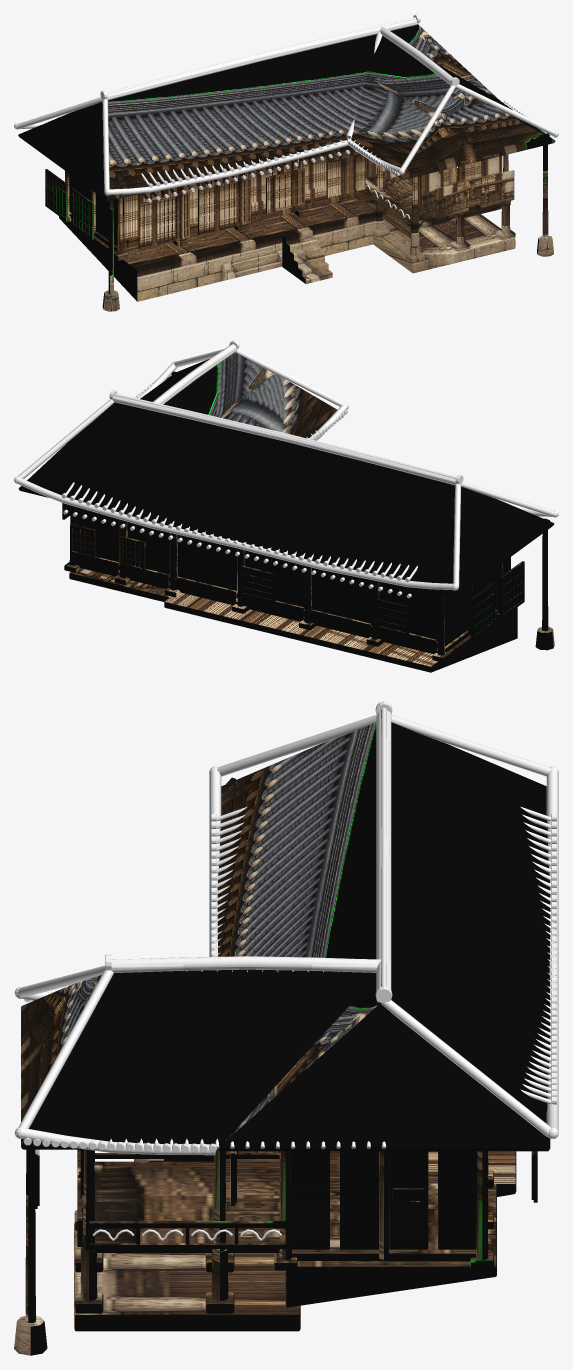
Rendered from ildu_sarangchae_final_v03.glb.
3 renders of one model, top to bottom at view 1: azimuth 30°, elevation 25°; view 2: azimuth 150°, elevation 25°; view 3: azimuth 270°, elevation 25°, orthographic. The views are drawn at different scales.
Visible parts, largest first — view 1: main_paljak_roof, numaru_paljak_roof, main_high_podium_core, numaru_low_podium, front_opening_bay_2_hanji, main_ridge_five_course_proxy, main_front_upturned_eave, front_opening_bay_1_hanji, numaru_floor, front_wall_bay_4, numaru_front_wall_1, front_opening_bay_4_hanji (+22 smaller); view 2: main_paljak_roof, numaru_paljak_roof, main_high_podium_core, main_rear_upturned_eave, rear_wall_bay_2, rear_wall_bay_4, rear_wall_bay_1, main_ridge_five_course_proxy, rear_wall_bay_3, rear_wall_bay_6, rear_wall_bay_5, main_wood_floor (+24 smaller); view 3: main_paljak_roof, numaru_paljak_roof, numaru_low_podium, numaru_floor, right_rear_graded_podium, right_wall_bay_4, right_wall_bay_2, rear_right_floor, wing_ridge_five_course_proxy, right_wall_bay_3, main_ridge_five_course_proxy, right_wall_bay_1 (+24 smaller).
Part boxes in pixels (<box>): main_paljak_roof: <box>18,24,498,201</box>; numaru_paljak_roof: <box>348,35,555,179</box>; main_high_podium_core: <box>59,198,375,301</box>; numaru_low_podium: <box>373,213,515,273</box>; front_opening_bay_2_hanji: <box>201,180,248,232</box>; main_ridge_five_course_proxy: <box>107,19,417,98</box>; main_front_upturned_eave: <box>109,140,348,195</box>; front_opening_bay_1_hanji: <box>141,195,187,246</box>; numaru_floor: <box>365,168,502,228</box>; front_wall_bay_4: <box>304,145,358,203</box>; numaru_front_wall_1: <box>417,167,456,212</box>; front_opening_bay_4_hanji: <box>329,156,363,195</box>; main_paljak_roof: <box>18,402,554,596</box>; numaru_paljak_roof: <box>140,352,343,438</box>; main_high_podium_core: <box>164,593,517,672</box>; main_rear_upturned_eave: <box>17,477,453,590</box>; rear_wall_bay_2: <box>311,567,372,631</box>; rear_wall_bay_4: <box>177,534,238,598</box>; rear_wall_bay_1: <box>379,581,438,647</box>; main_ridge_five_course_proxy: <box>113,396,456,485</box>; rear_wall_bay_3: <box>244,550,305,614</box>; rear_wall_bay_6: <box>77,507,120,570</box>; rear_wall_bay_5: <box>127,522,170,582</box>; main_wood_floor: <box>177,550,497,654</box>; main_paljak_roof: <box>217,722,550,1151</box>; numaru_paljak_roof: <box>21,969,386,1149</box>; numaru_low_podium: <box>74,1223,300,1331</box>; numaru_floor: <box>94,1161,280,1252</box>; right_rear_graded_podium: <box>285,1184,496,1307</box>; right_wall_bay_4: <box>438,1151,477,1249</box>; right_wall_bay_2: <box>340,1151,378,1249</box>; rear_right_floor: <box>292,1171,475,1260</box>; wing_ridge_five_course_proxy: <box>111,956,379,972</box>; right_wall_bay_3: <box>389,1151,428,1249</box>; main_ridge_five_course_proxy: <box>377,710,389,989</box>; right_wall_bay_1: <box>290,1151,329,1249</box>.
Size of the model in its own units: 17.56 by 7.4 by 11.06.
19 materials, 14 textured.
